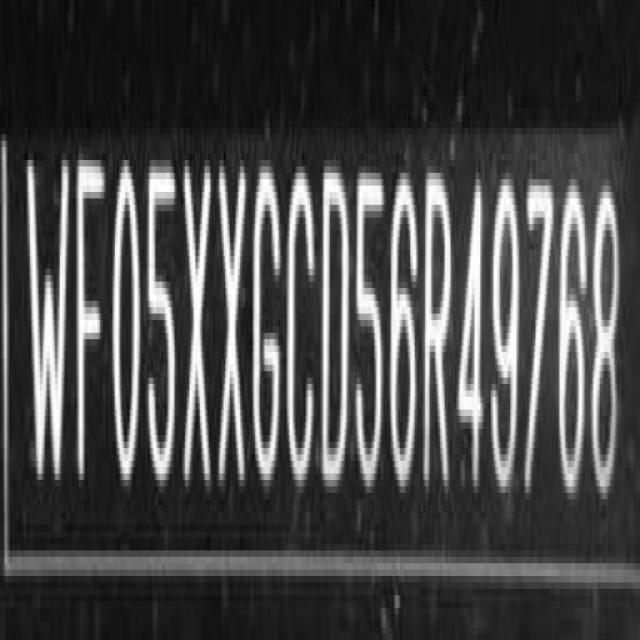0: (110, 153, 144, 505)
4: (455, 168, 484, 502)
5: (144, 150, 180, 500), (353, 166, 387, 498)
6: (389, 165, 422, 501), (558, 183, 591, 507)
7: (524, 171, 555, 504)
8: (594, 185, 624, 508)
9: (490, 176, 524, 502)
C: (288, 164, 320, 498)
D: (320, 162, 352, 498)
F: (74, 145, 108, 481)
G: (250, 147, 288, 512)
R: (426, 149, 454, 500)
W: (24, 143, 70, 502)
X: (181, 149, 215, 503), (214, 158, 249, 500)
